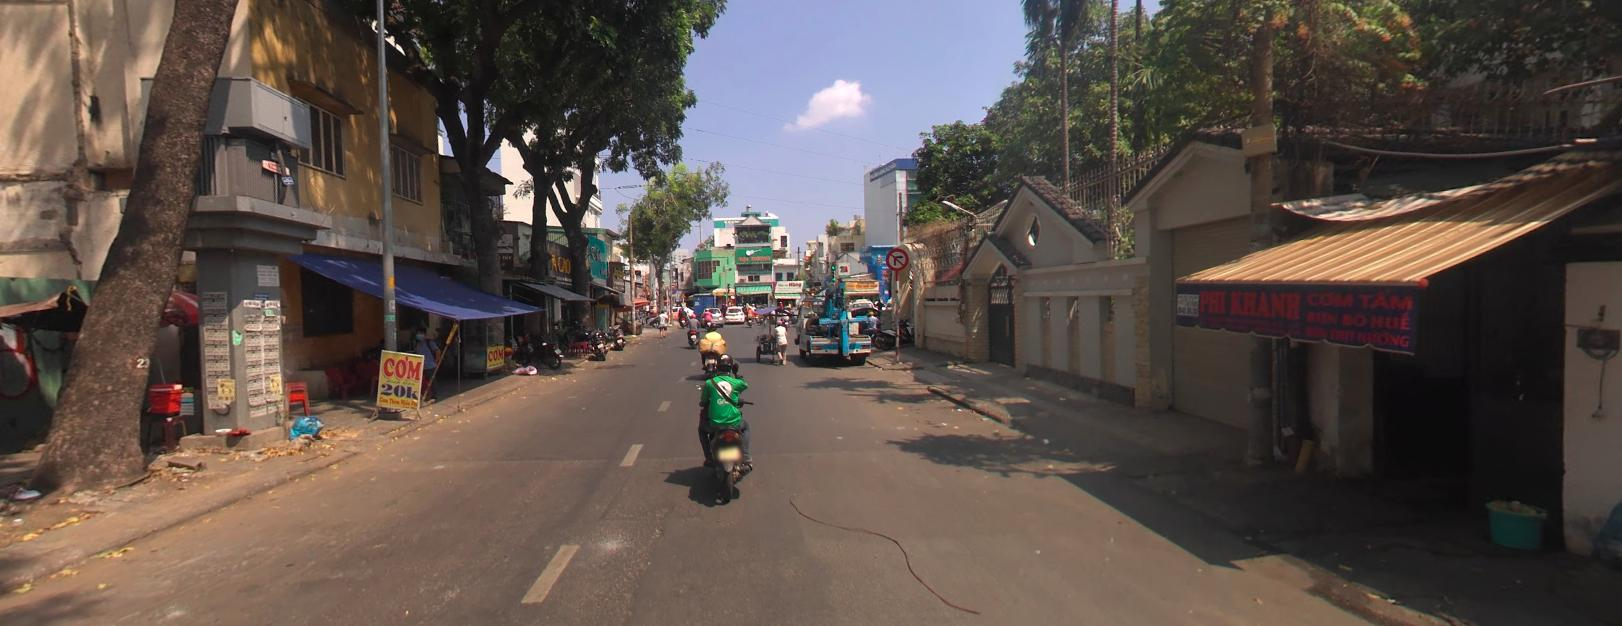Cam dung va do: (670, 286, 676, 292)
Cam re: (886, 247, 907, 268)
Nguy hiem: (679, 291, 685, 296)
